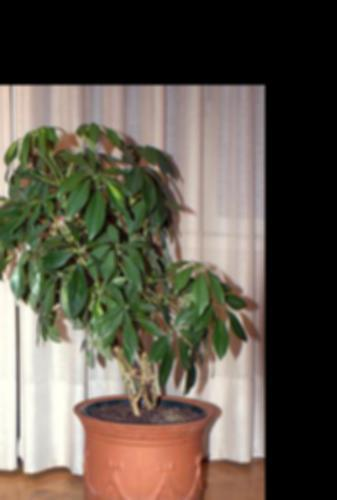Matera: (0, 104, 254, 500)
